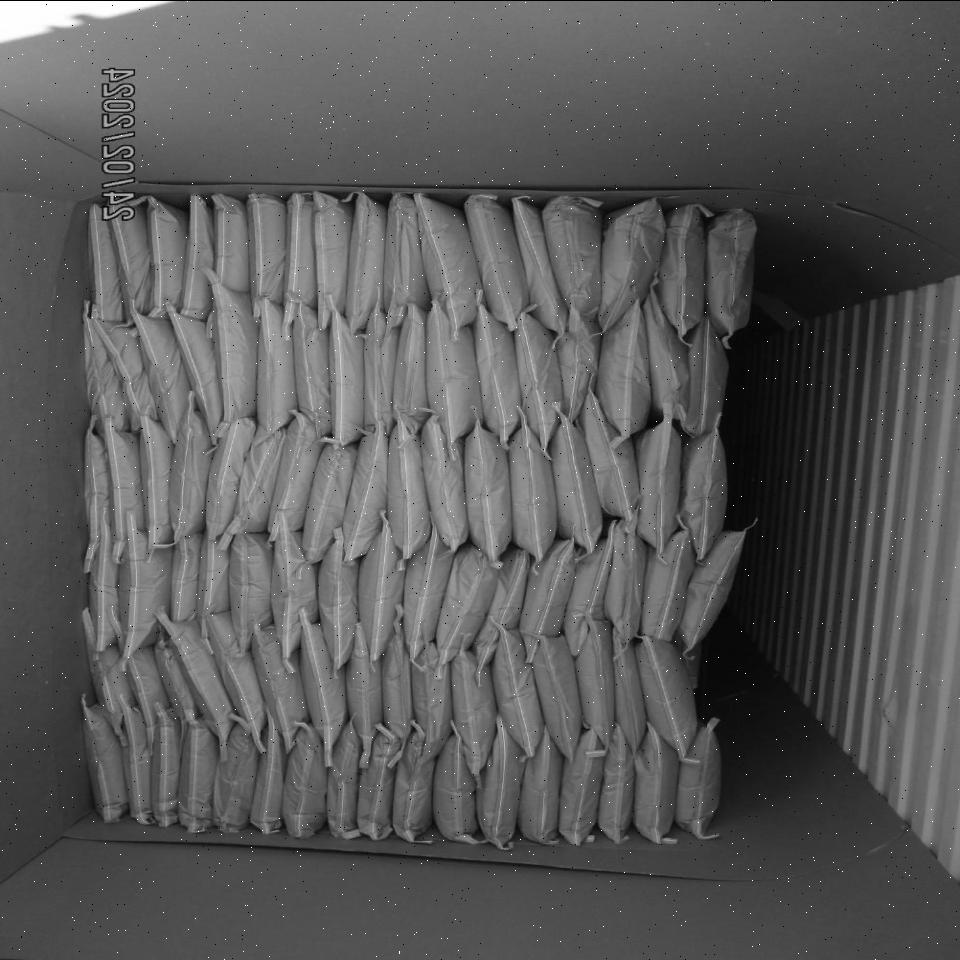bag: (158, 610, 233, 749), (414, 193, 481, 326), (87, 300, 156, 429), (116, 512, 173, 666), (598, 199, 665, 328), (205, 609, 265, 746), (131, 301, 190, 439), (466, 194, 526, 328), (683, 528, 747, 653), (209, 270, 257, 435), (596, 298, 654, 434), (250, 612, 307, 748), (425, 303, 478, 447), (268, 514, 321, 657), (550, 405, 601, 552), (166, 301, 220, 437), (224, 423, 284, 545), (356, 510, 405, 658), (402, 514, 453, 656), (579, 387, 636, 514), (511, 413, 559, 562), (566, 518, 618, 655), (638, 637, 698, 755), (437, 545, 497, 663), (520, 537, 577, 658), (301, 617, 349, 760), (387, 406, 431, 559), (83, 606, 135, 735), (640, 400, 685, 549), (546, 194, 602, 313), (302, 439, 356, 562), (644, 274, 690, 418), (325, 293, 369, 443), (515, 197, 563, 334), (477, 546, 533, 663), (340, 419, 388, 555), (463, 425, 512, 558), (270, 411, 322, 536), (475, 708, 522, 846), (703, 205, 754, 332), (422, 415, 468, 554), (679, 421, 728, 551), (476, 300, 521, 441), (493, 621, 541, 753), (170, 389, 212, 539), (514, 313, 562, 444), (383, 196, 428, 333), (319, 524, 363, 664), (601, 511, 647, 644), (452, 647, 498, 780), (83, 303, 129, 434), (660, 205, 706, 333), (534, 631, 581, 755), (207, 416, 255, 537), (345, 192, 387, 330), (255, 295, 298, 429), (104, 413, 143, 559), (434, 732, 484, 843), (108, 197, 152, 322), (226, 531, 273, 647), (631, 724, 677, 841), (643, 530, 691, 640), (347, 623, 386, 758), (83, 702, 126, 823), (213, 717, 258, 832), (146, 193, 188, 316), (283, 720, 327, 837), (676, 723, 721, 837), (577, 617, 617, 744), (686, 316, 729, 434), (557, 303, 600, 421), (246, 195, 287, 316), (562, 729, 605, 842), (138, 413, 175, 544), (178, 195, 217, 319), (293, 305, 330, 434), (364, 297, 398, 437), (393, 724, 434, 838), (177, 718, 218, 831), (313, 197, 349, 325), (412, 641, 453, 753), (521, 727, 561, 841), (326, 713, 363, 836), (380, 613, 414, 745), (116, 693, 151, 821), (89, 504, 120, 648), (356, 730, 397, 837), (392, 304, 426, 432), (283, 193, 317, 320), (250, 708, 285, 831), (611, 630, 647, 749), (154, 632, 195, 731), (84, 415, 110, 569), (131, 643, 169, 746), (212, 192, 251, 292), (600, 727, 633, 839), (90, 203, 121, 320), (152, 699, 181, 824), (196, 531, 228, 634), (171, 530, 202, 622)
